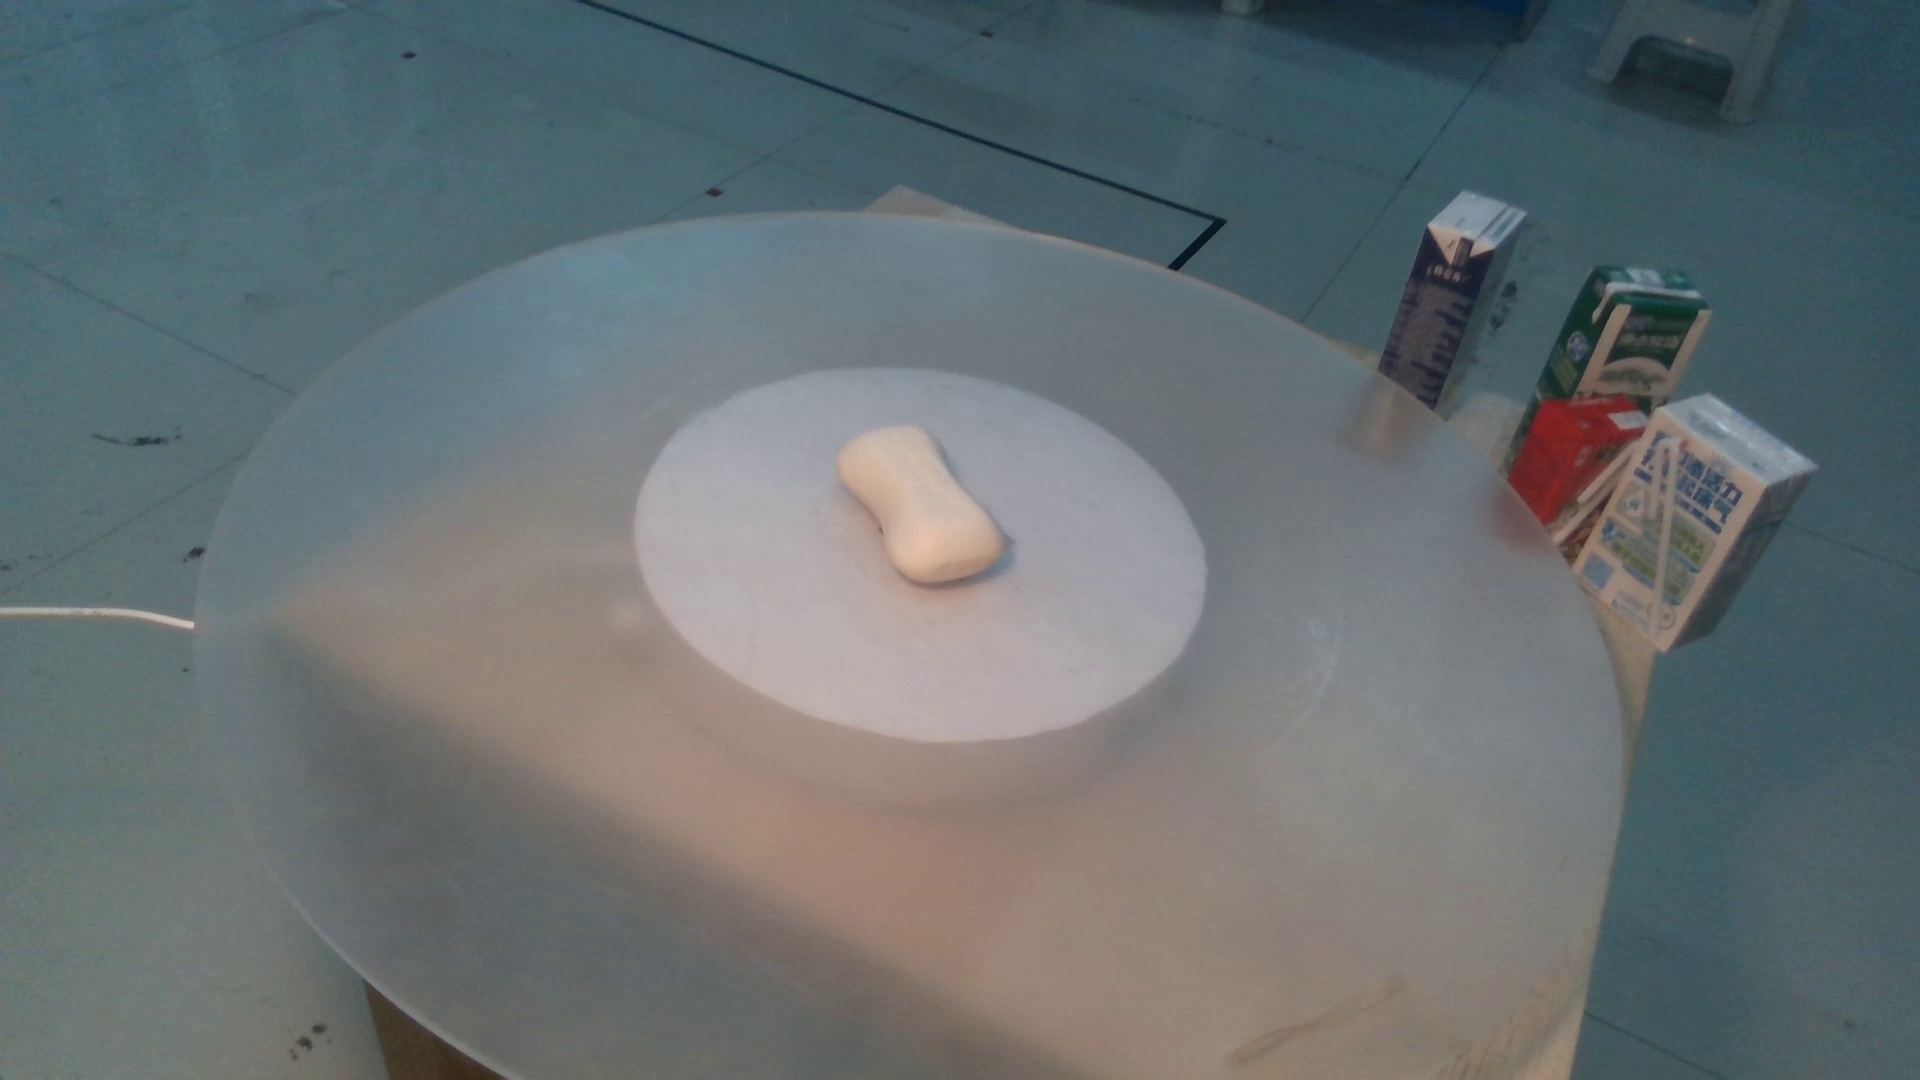CA003_1: (798, 400, 1079, 600)
